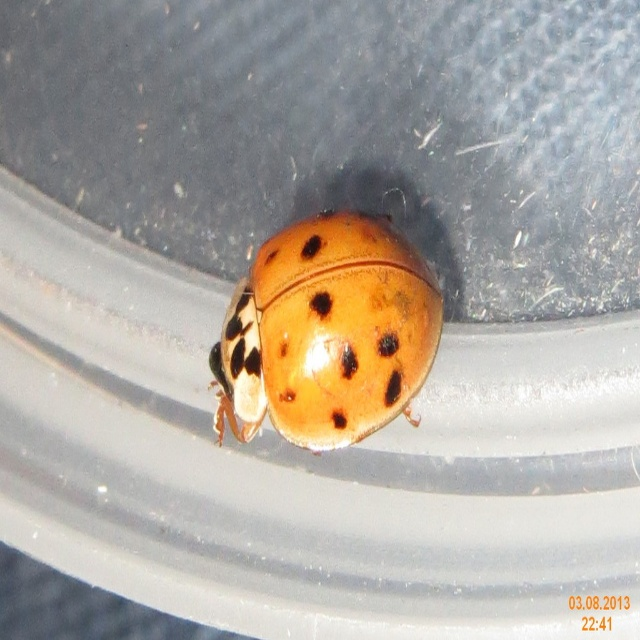Ladybug: (210, 206, 447, 449)
